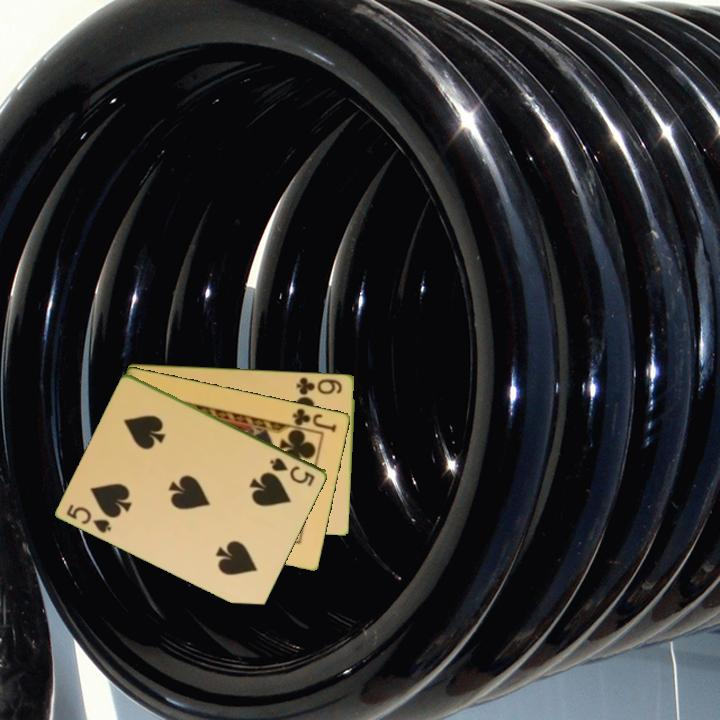5s: (63, 500, 115, 536), (266, 454, 318, 489)
6c: (293, 373, 345, 398)
Jc: (289, 404, 340, 435)
